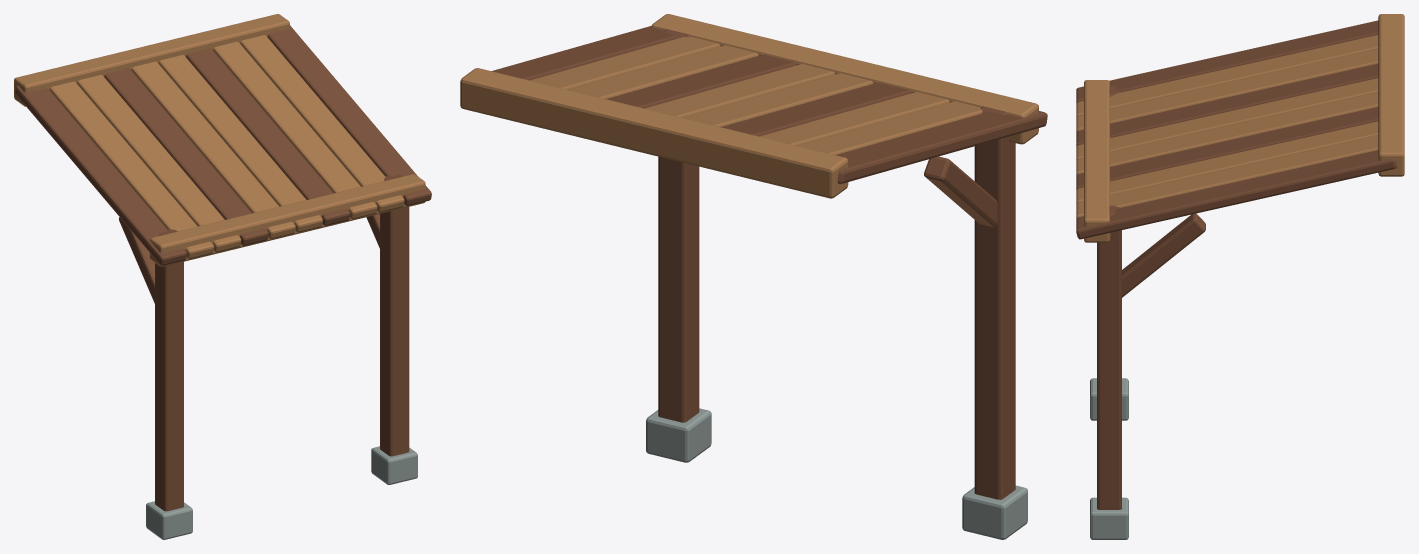
Rendered from attachment_work_canopy_2m.glb.
3 views of the same model, side by side, from view 1: azimuth 30°, elevation 25°; view 2: azimuth 150°, elevation 25°; view 3: azimuth 270°, elevation 25° (orthographic). The views are drawn at different scales.
Visible parts, largest first — view 1: attachment_work_canopy_2m__attachments; view 2: attachment_work_canopy_2m__attachments; view 3: attachment_work_canopy_2m__attachments.
Part boxes in pixels (bbox=[...]): attachment_work_canopy_2m__attachments: bbox=[14, 14, 431, 539]; attachment_work_canopy_2m__attachments: bbox=[460, 14, 1047, 539]; attachment_work_canopy_2m__attachments: bbox=[1076, 14, 1404, 539].
Bounding box in the file's own units: 2.19 × 2.78 × 2.12.
